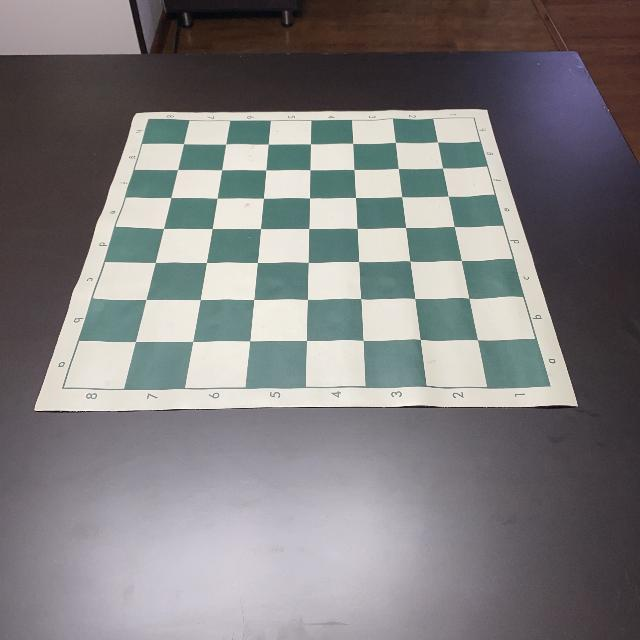board: (34, 108, 578, 412)
